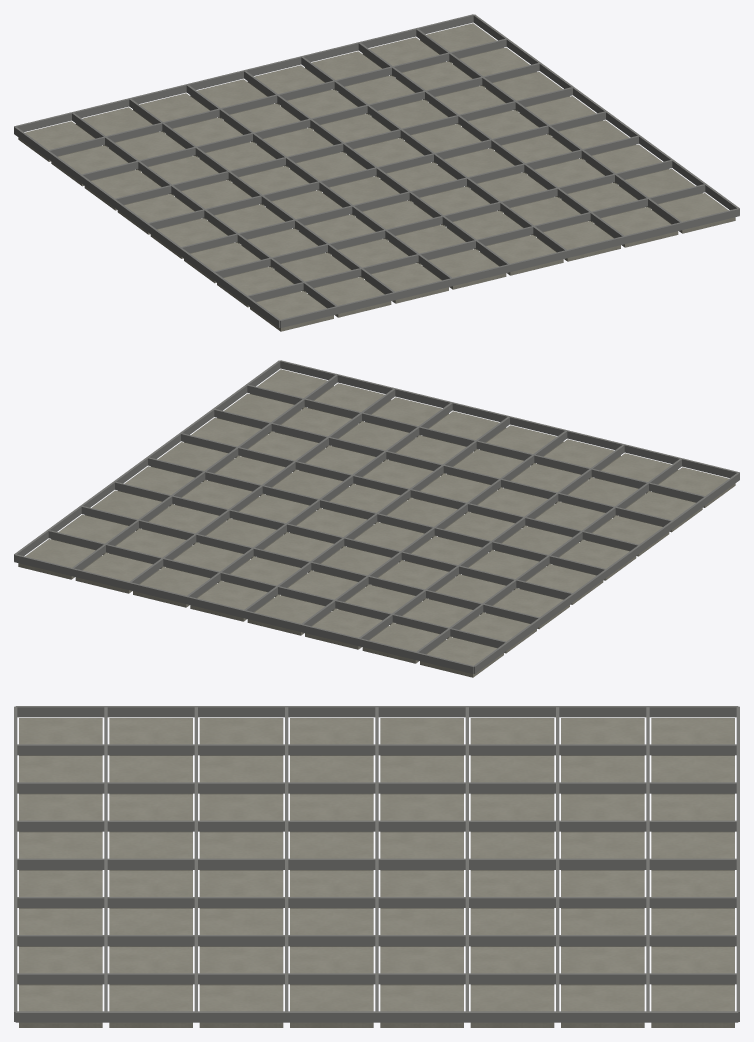
Rendered from ceiling_4x4.glb.
3 views of the same model, one above another, from view 1: azimuth 30°, elevation 25°; view 2: azimuth 150°, elevation 25°; view 3: azimuth 270°, elevation 25° (orthographic). The views are drawn at different scales.
Parts seen in each view (by area): view 1: Ceiling4x4; view 2: Ceiling4x4; view 3: Ceiling4x4.
Part boxes in pixels (x1,y1,x2,y2): Ceiling4x4: (14,14,739,331); Ceiling4x4: (14,360,739,677); Ceiling4x4: (14,706,739,1027).
Bounding box in the file's own units: 4.02 × 0.105 × 4.02.
Materials: 2 (1 with a texture image).
